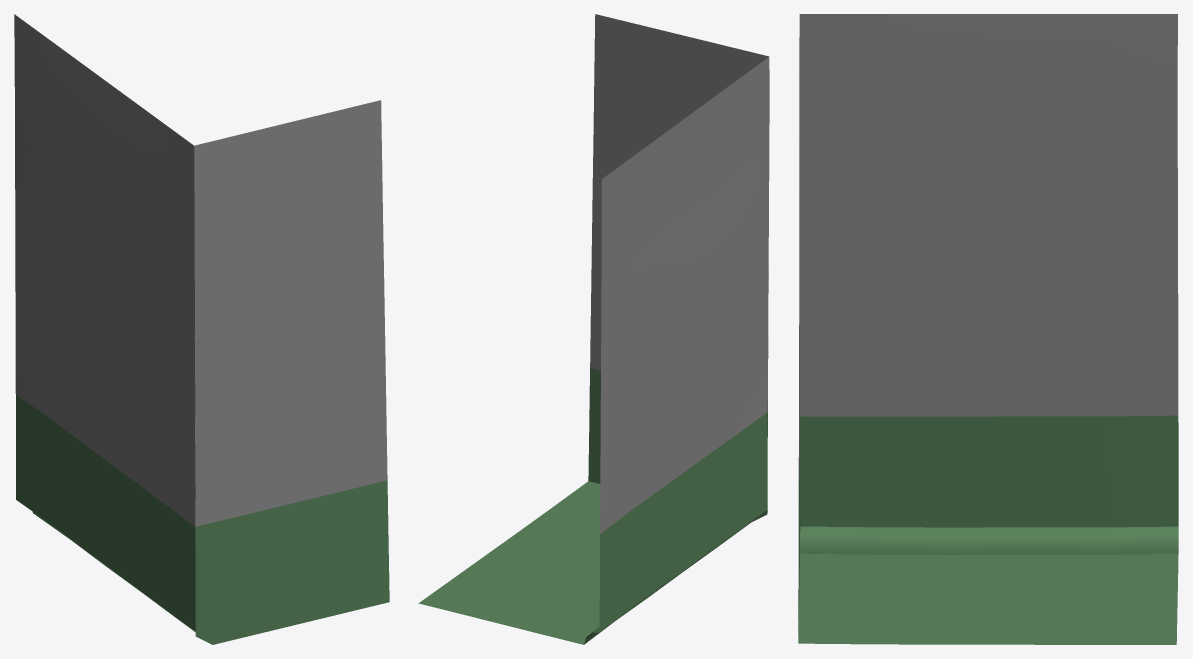
The model's file is Mapa13.fbx.
3 views of the same model, side by side, from view 1: azimuth 30°, elevation 25°; view 2: azimuth 150°, elevation 25°; view 3: azimuth 270°, elevation 25° (orthographic). The views are drawn at different scales.
Parts seen in each view (by area): view 1: pPlane17; view 2: pPlane17; view 3: pPlane17.
Part boxes in pixels (left/top/right/bottom): pPlane17: left=14, top=14, right=389, bottom=644; pPlane17: left=418, top=14, right=769, bottom=644; pPlane17: left=798, top=14, right=1178, bottom=644.
Bounding box in the file's own units: 20.44 × 49.94 × 32.44.
